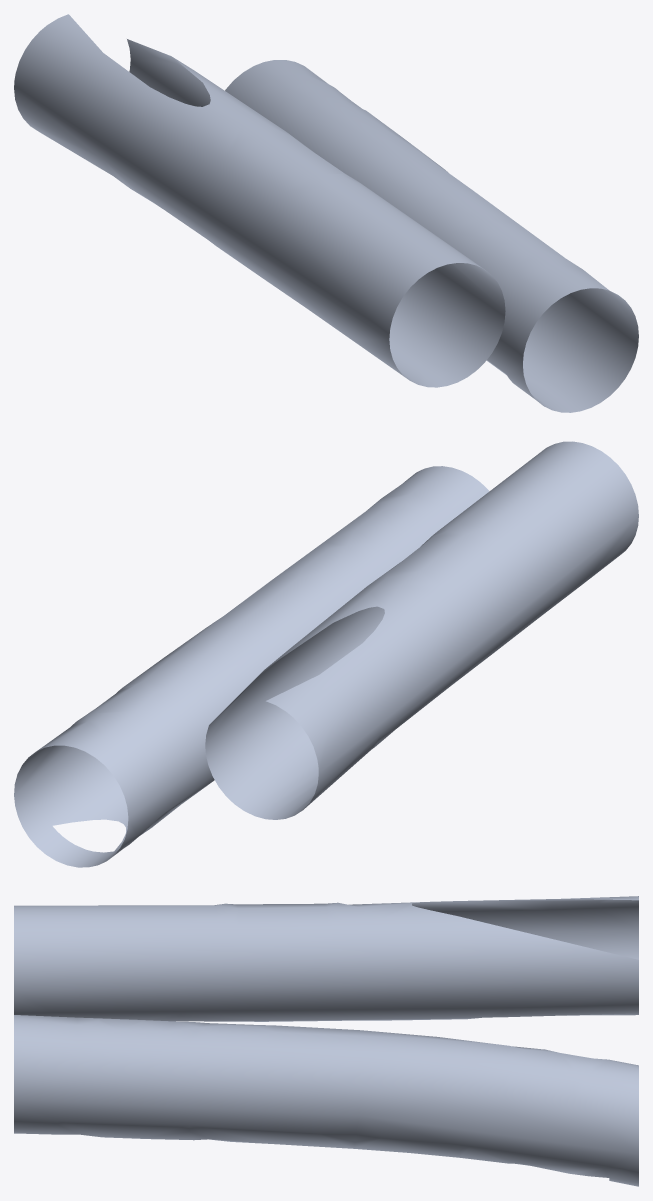
File: ur3e_scaled_42.obj
3 views of the same model, one above another, from view 1: azimuth 30°, elevation 25°; view 2: azimuth 150°, elevation 25°; view 3: azimuth 270°, elevation 25° (orthographic). The views are drawn at different scales.
Bounding box in the file's own units: 0.00539 × 0.00361 × 0.0105.
